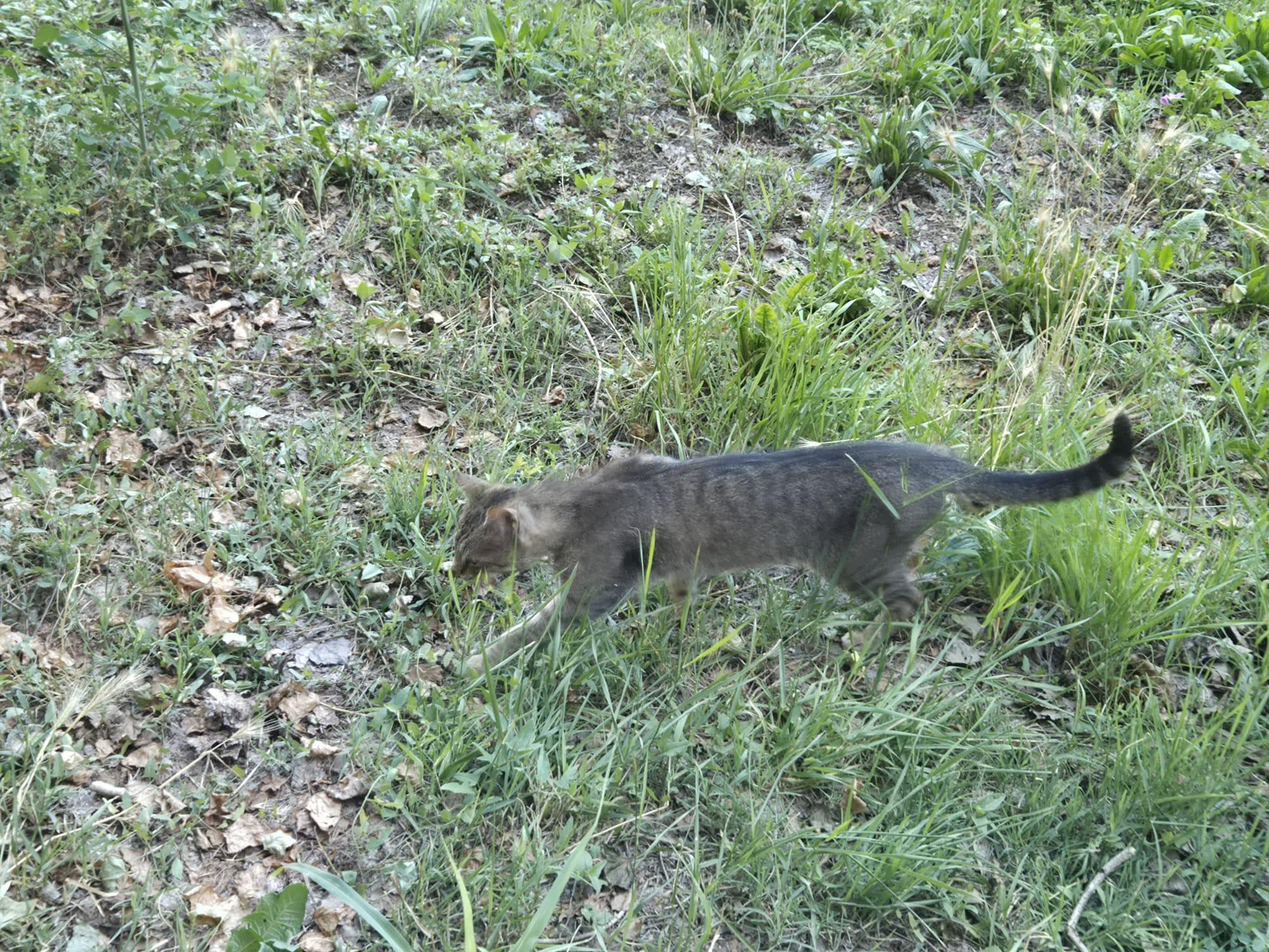macka: (444, 410, 1139, 678)
